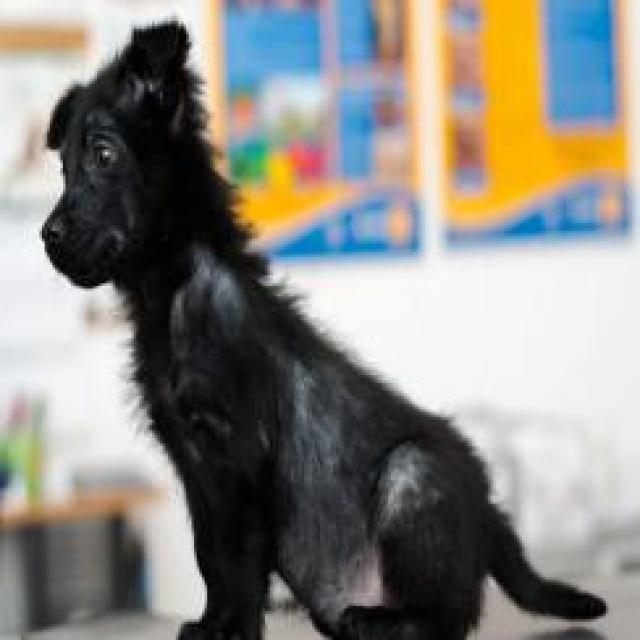fungal infection: (168, 250, 249, 318), (366, 442, 436, 512), (300, 364, 350, 456)
